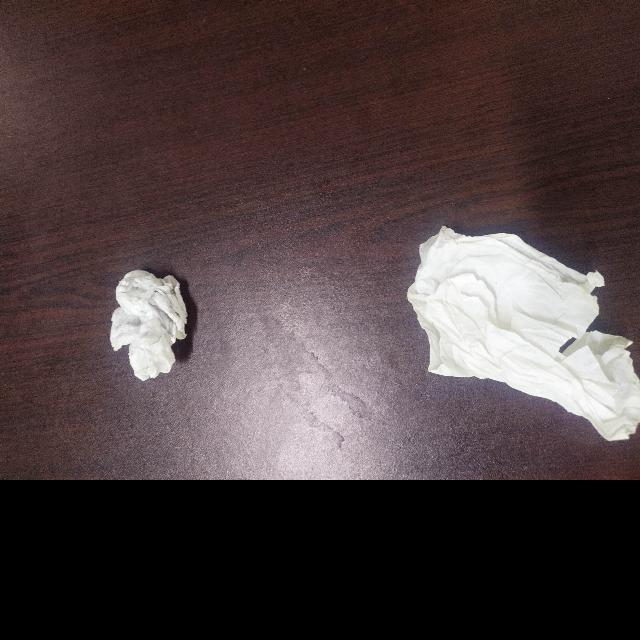kitchen paper: (414, 224, 640, 452), (107, 260, 191, 390)
